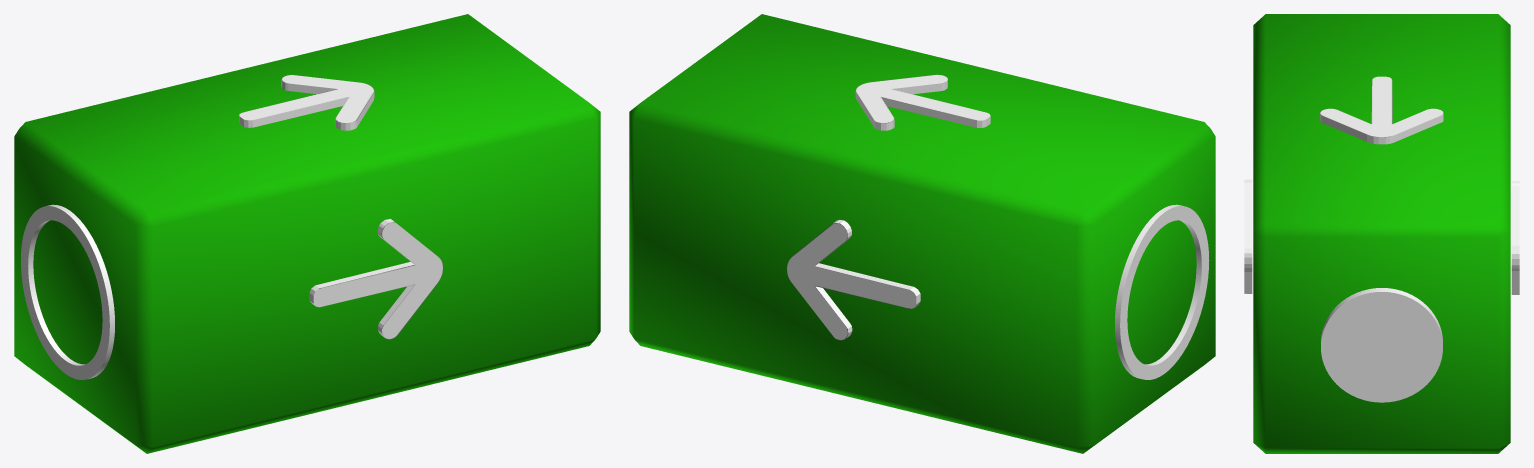
The model's file is BigBoxTapFlowBox_1_1_2_Clean_test.fbx.
The picture shows the model from 3 angles, left to right: view 1: azimuth 30°, elevation 25°; view 2: azimuth 150°, elevation 25°; view 3: azimuth 270°, elevation 25°; orthographic projection. The views are drawn at different scales.
Visible parts, largest first — view 1: BigBoxTapFlowBox_1_1_2_Clean_test; view 2: BigBoxTapFlowBox_1_1_2_Clean_test; view 3: BigBoxTapFlowBox_1_1_2_Clean_test.
Boxes of the visible parts, x1,y1,x2,y2 form: BigBoxTapFlowBox_1_1_2_Clean_test: (14, 14, 600, 453); BigBoxTapFlowBox_1_1_2_Clean_test: (629, 14, 1215, 453); BigBoxTapFlowBox_1_1_2_Clean_test: (1244, 14, 1519, 453).
Size of the model in its own units: 2.18 by 1.14 by 1.12.
1 material, 1 textured.
